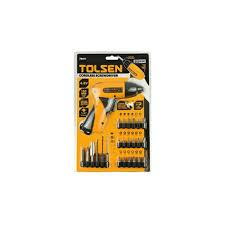screwdriver: (79, 81, 142, 134)
